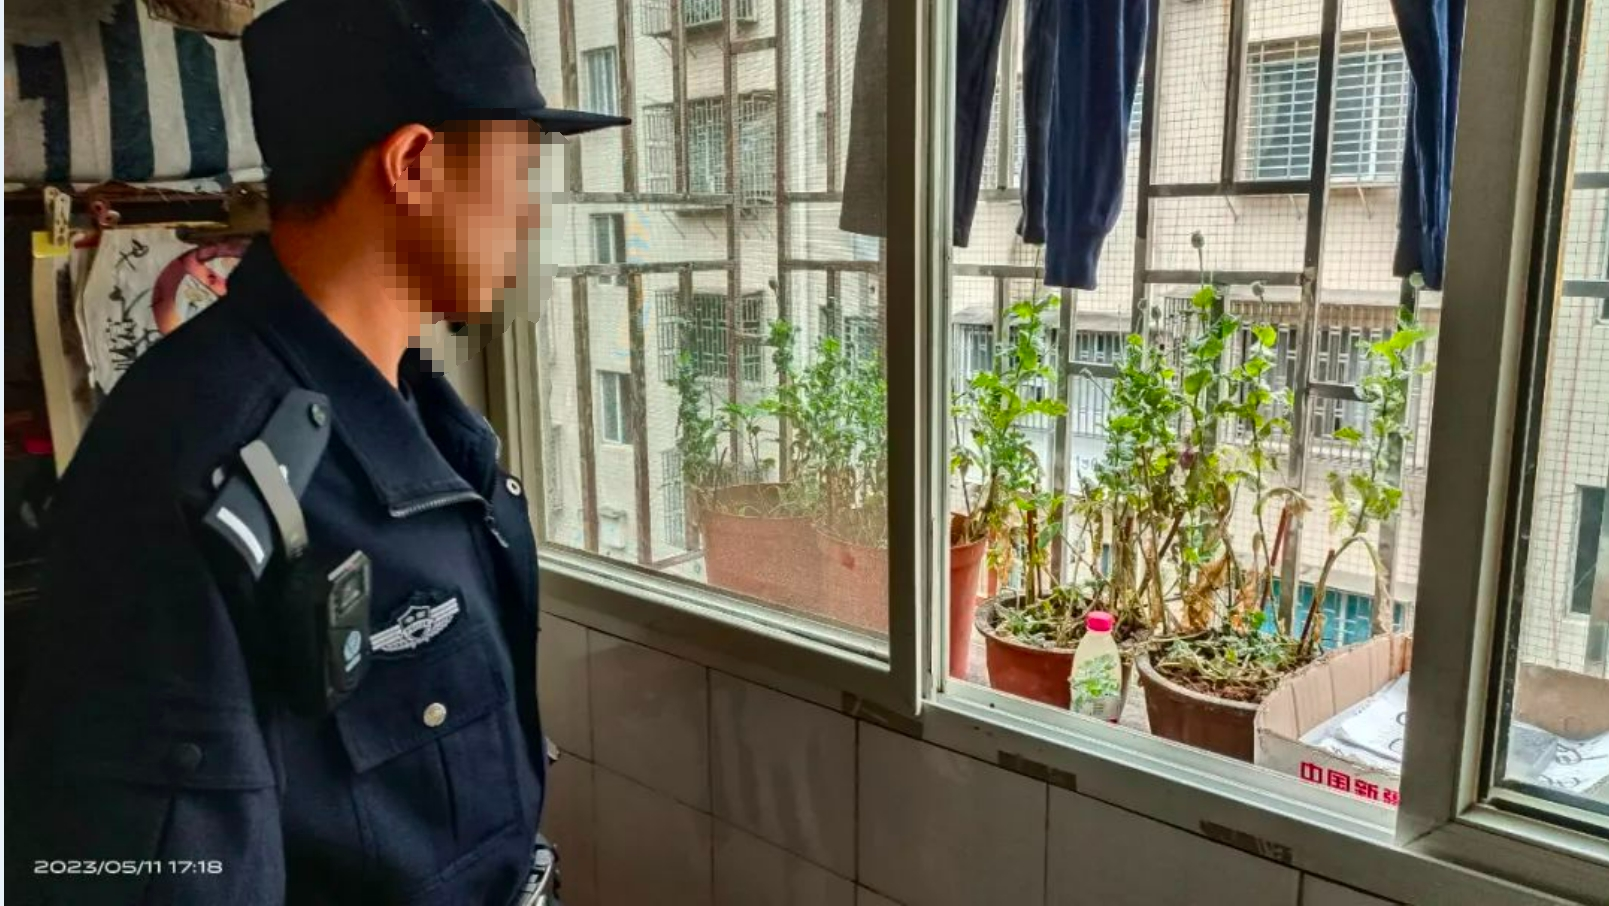Poppy: (950, 276, 1407, 683), (656, 307, 884, 601)
